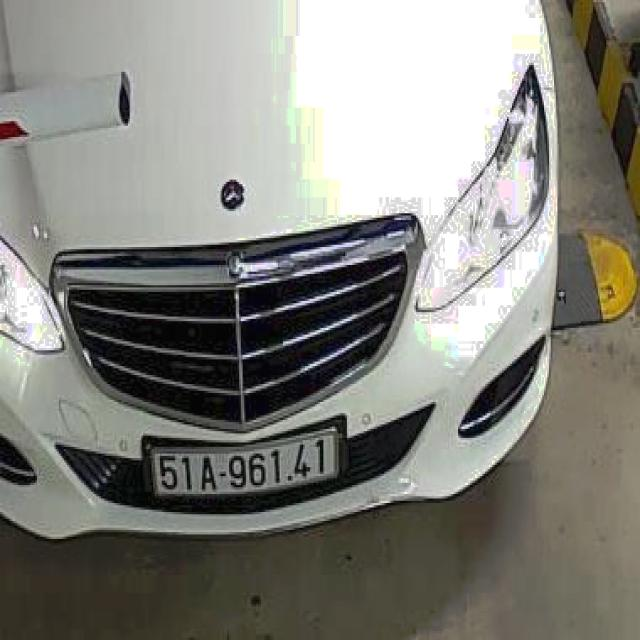license_plate: (149, 428, 342, 506)
